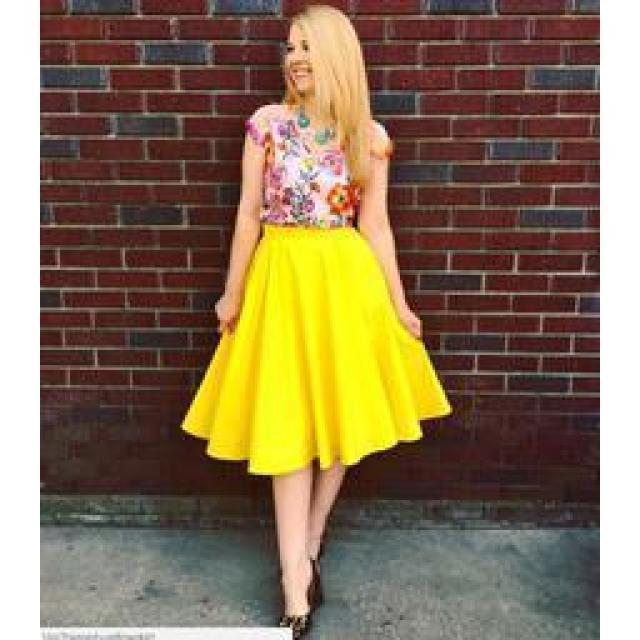Tshirt: (244, 101, 394, 231)
skirt: (183, 222, 455, 476)
